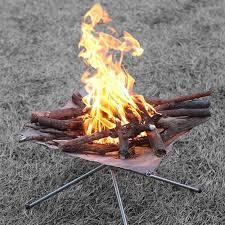fire: (74, 2, 145, 136)
